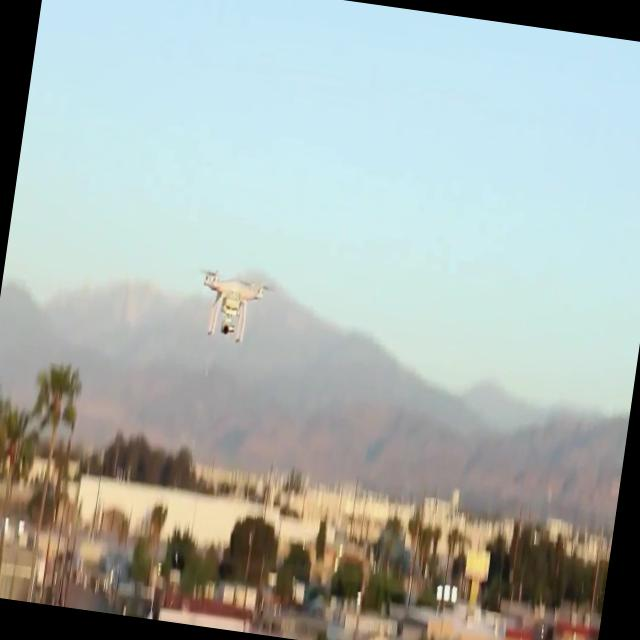drone: (192, 266, 268, 344)
